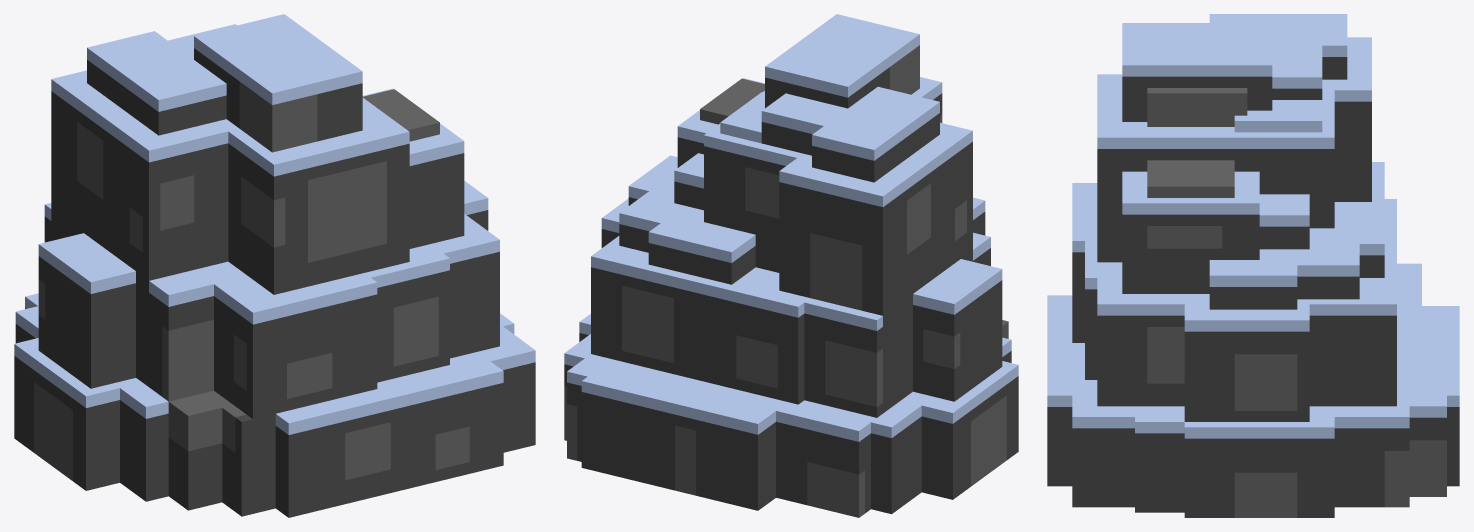
Rendered from rock_1.obj.
3 views of the same model, side by side, from view 1: azimuth 30°, elevation 25°; view 2: azimuth 150°, elevation 25°; view 3: azimuth 270°, elevation 25° (orthographic). The views are drawn at different scales.
Size of the model in its own units: 3.6 by 3.3 by 3.3.
1 material, 1 textured.
